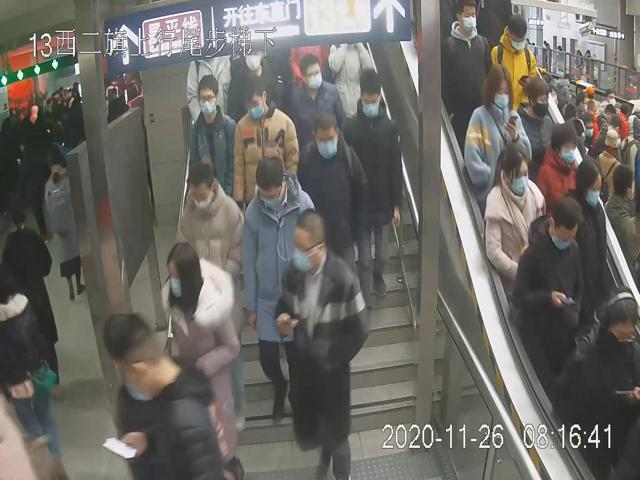person: (274, 208, 366, 480), (245, 158, 318, 430), (161, 240, 246, 472), (511, 195, 587, 392), (345, 68, 404, 309), (298, 111, 369, 292), (174, 161, 243, 292), (464, 64, 532, 189), (233, 81, 299, 208), (485, 145, 543, 276), (185, 75, 237, 196), (290, 51, 345, 154), (443, 1, 489, 120)
